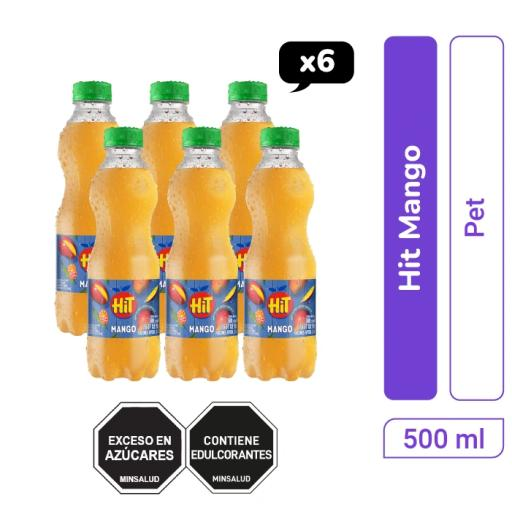JugoHM: (56, 76, 142, 338), (84, 124, 163, 390), (164, 130, 239, 382), (244, 128, 317, 384), (142, 81, 197, 330), (220, 82, 274, 332)
